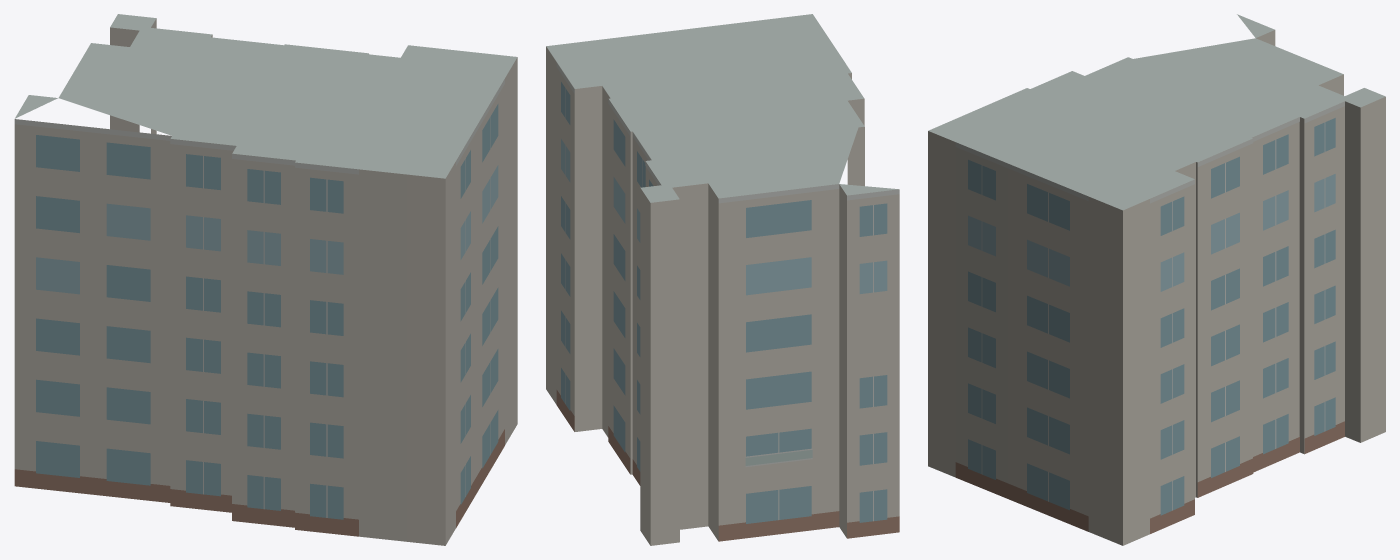
The model's file is survey-upis-32658138.glb.
3 renders of one model, left to right at view 1: azimuth 30°, elevation 25°; view 2: azimuth 150°, elevation 25°; view 3: azimuth 270°, elevation 25°, orthographic. The views are drawn at different scales.
Parts seen in each view (by area): view 1: survey-upis-32658138.tmp; view 2: survey-upis-32658138.tmp; view 3: survey-upis-32658138.tmp.
Boxes of the visible parts, x1,y1,x2,y2 form: survey-upis-32658138.tmp: [14, 14, 517, 545]; survey-upis-32658138.tmp: [546, 14, 899, 545]; survey-upis-32658138.tmp: [928, 14, 1385, 545].
Size of the model in its own units: 21.36 by 17 by 21.03.
